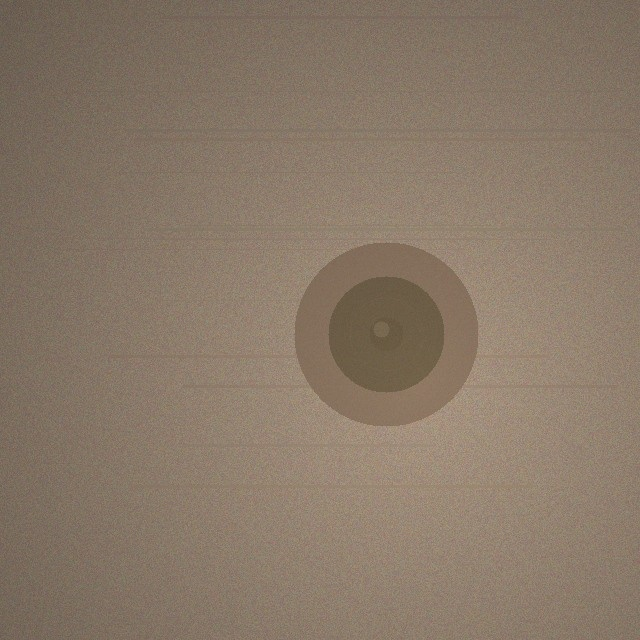good: (294, 242, 478, 426)
